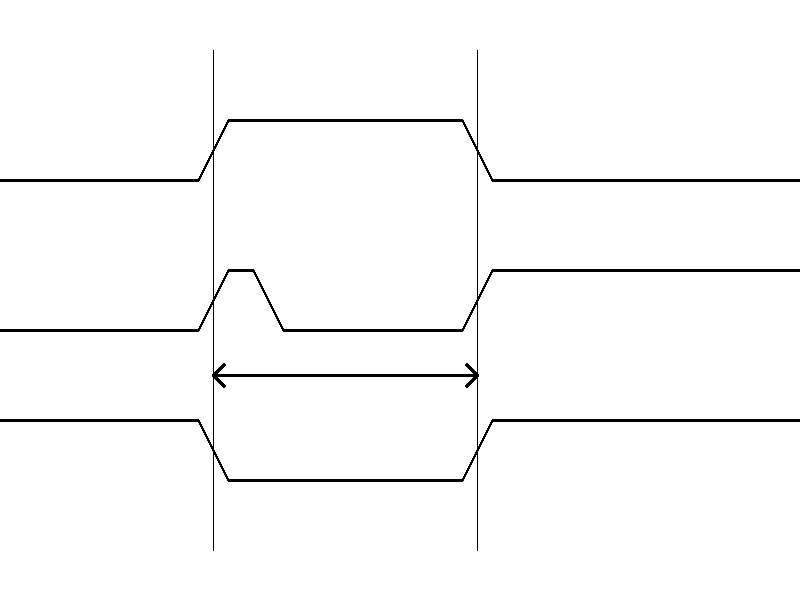double_arrow: (213, 360, 477, 390)
